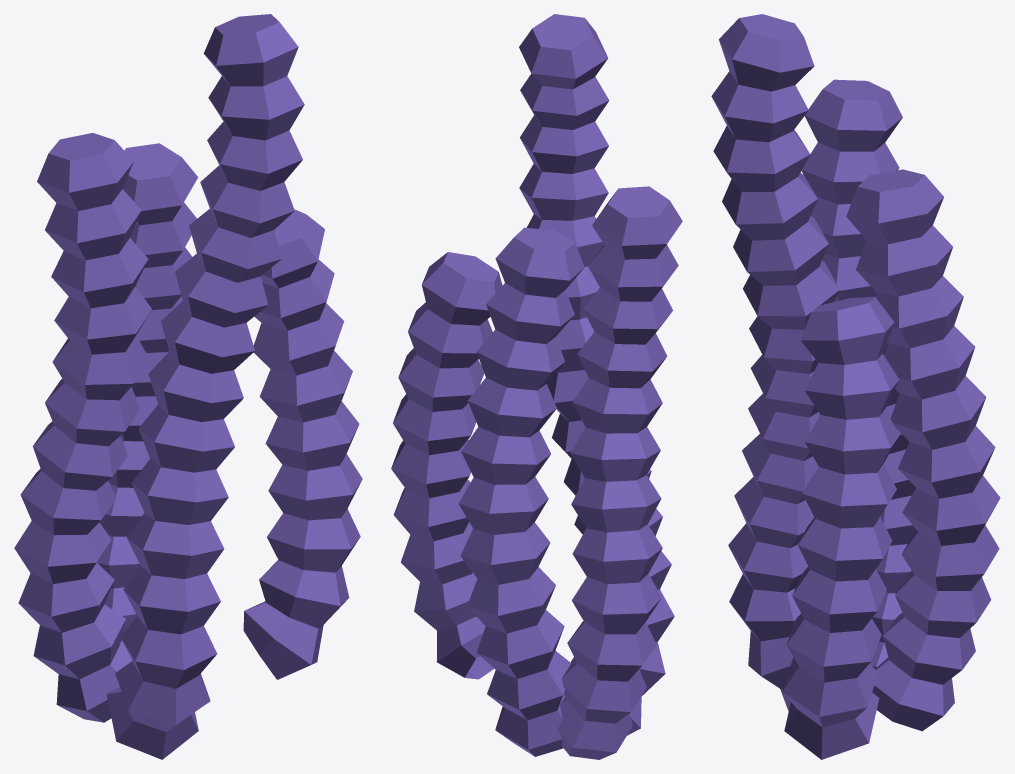
The model's file is Coral_18.fbx.
The picture shows the model from 3 angles, left to right: view 1: azimuth 30°, elevation 25°; view 2: azimuth 150°, elevation 25°; view 3: azimuth 270°, elevation 25°; orthographic projection. The views are drawn at different scales.
Parts seen in each view (by area): view 1: Coral_18; view 2: Coral_18; view 3: Coral_18.
Part boxes in pixels (x1,y1,x2,y2): Coral_18: (14,14,362,759); Coral_18: (391,14,682,759); Coral_18: (711,14,1000,759).
Bounding box in the file's own units: 39.64 × 91.12 × 32.04.
